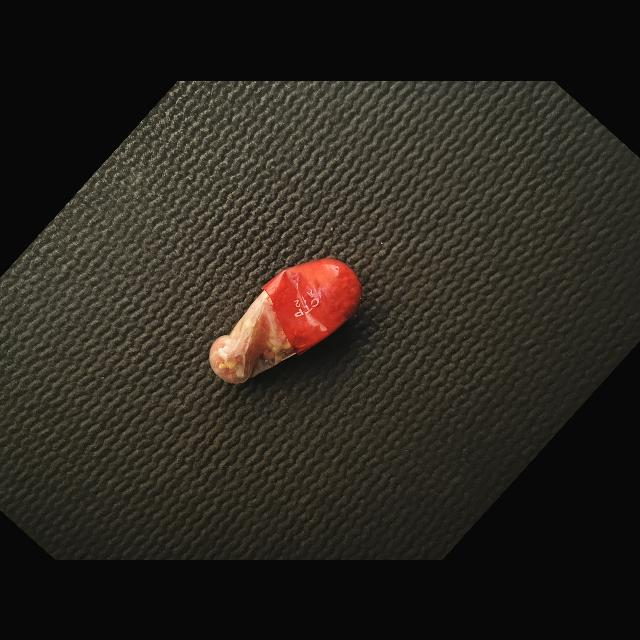Defective Capsule: (209, 258, 362, 384)
